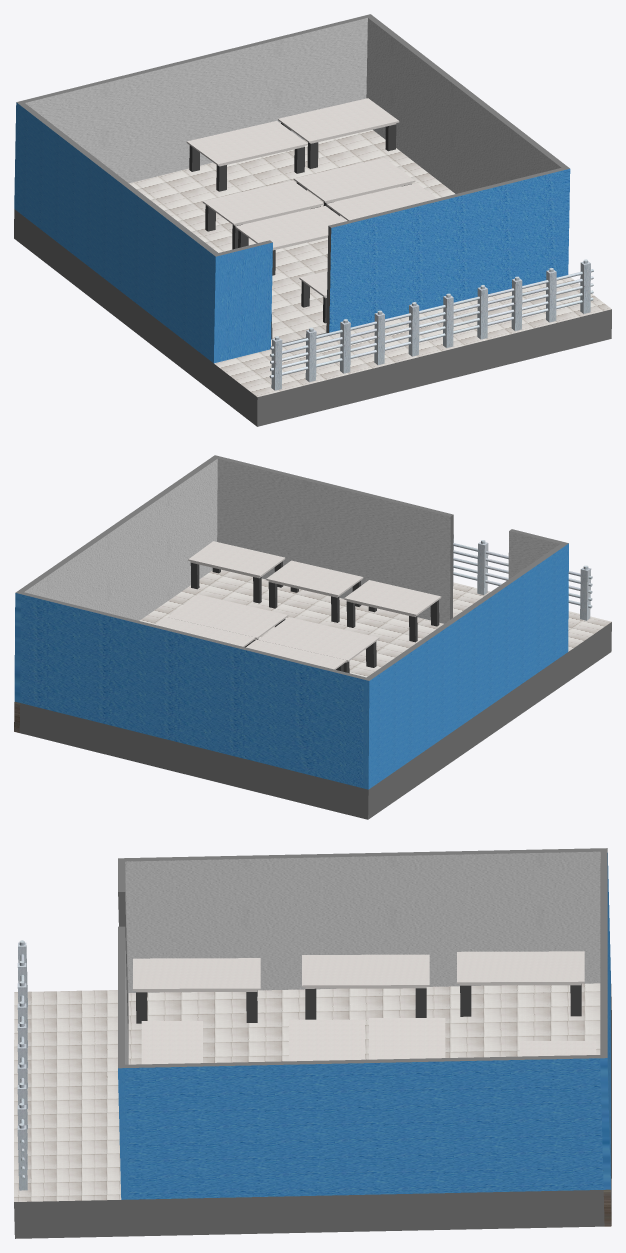
File: salon.dae
3 views of the same model, one above another, from view 1: azimuth 30°, elevation 25°; view 2: azimuth 150°, elevation 25°; view 3: azimuth 270°, elevation 25° (orthographic). The views are drawn at different scales.
Parts seen in each view (by area): view 1: Cube.011; view 2: Cube.011; view 3: Cube.011.
Part boxes in pixels (left/top/right/bottom): Cube.011: left=14, top=14, right=611, bottom=426; Cube.011: left=14, top=455, right=611, bottom=819; Cube.011: left=14, top=848, right=611, bottom=1238.
Bounding box in the file's own units: 10.36 × 12.32 × 4.16.
7 materials, 5 textured.
